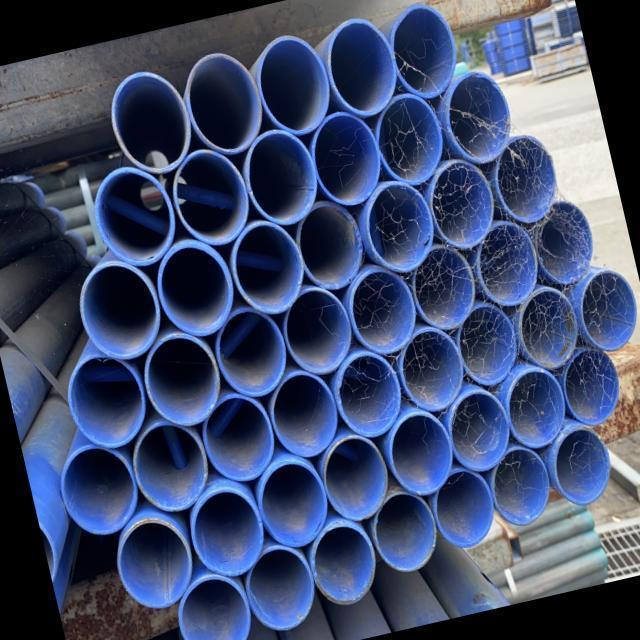pipe: (101, 62, 201, 182), (69, 252, 170, 369), (85, 157, 185, 275), (177, 44, 272, 163), (58, 344, 156, 457), (147, 231, 244, 345), (247, 27, 340, 143), (164, 141, 258, 254), (234, 120, 327, 233), (51, 435, 147, 543), (135, 325, 229, 434), (107, 509, 201, 617), (316, 11, 406, 123), (124, 412, 217, 520), (222, 213, 313, 322), (303, 103, 391, 213), (182, 479, 273, 585), (206, 298, 295, 404), (194, 386, 284, 490), (367, 85, 454, 192), (272, 278, 361, 382), (249, 450, 338, 554), (356, 174, 443, 279), (287, 192, 372, 297), (237, 537, 324, 638), (420, 151, 504, 255), (437, 65, 520, 170), (382, 0, 465, 104), (261, 363, 346, 464), (340, 260, 425, 360), (327, 343, 411, 444), (315, 428, 398, 528), (302, 513, 385, 611), (403, 237, 484, 336), (380, 405, 462, 502), (391, 320, 472, 418), (487, 128, 566, 228), (467, 213, 546, 312), (364, 483, 445, 578), (525, 193, 602, 291), (440, 382, 519, 477), (510, 282, 587, 376), (449, 297, 526, 391), (425, 461, 502, 554), (498, 361, 573, 453), (483, 441, 559, 531), (544, 419, 618, 511), (168, 566, 259, 640), (556, 341, 629, 431), (571, 262, 640, 357)
